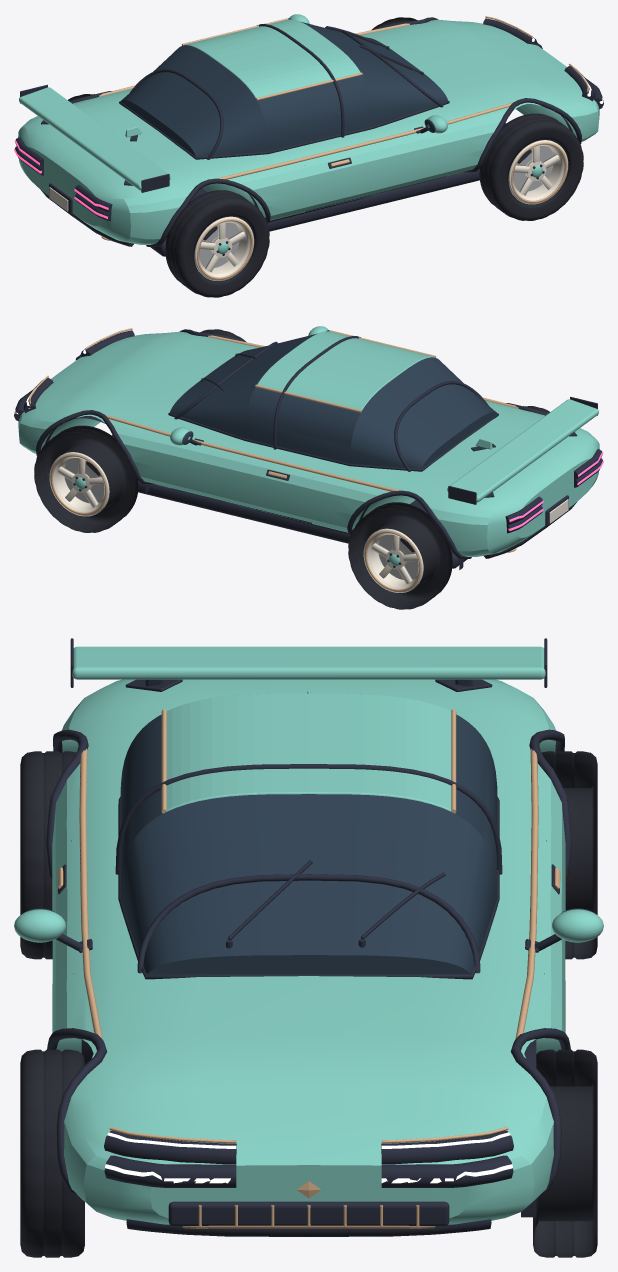
The model's file is coupe.glb.
3 views of the same model, one above another, from view 1: azimuth 30°, elevation 25°; view 2: azimuth 150°, elevation 25°; view 3: azimuth 270°, elevation 25° (orthographic). The views are drawn at different scales.
Visible parts, largest first — view 1: PT_coupe_body, PT_coupe_wraparound_glass, PT_coupe_tyre_FL, PT_coupe_antenna_base, PT_coupe_antenna_fin, PT_coupe_exhaust_tip, PT_coupe_licence_plate, PT_coupe_tail_light; view 2: PT_coupe_body, PT_coupe_wraparound_glass, PT_coupe_tyre_FL, PT_coupe_antenna_base, PT_coupe_antenna_fin, PT_coupe_exhaust_tip, PT_coupe_licence_plate, PT_coupe_tail_light; view 3: PT_coupe_body, PT_coupe_wraparound_glass, PT_coupe_antenna_base, PT_coupe_tyre_FL, PT_coupe_antenna_fin, PT_coupe_exhaust_tip, PT_coupe_light_signature.
Boxes of the visible parts, x1=… form: PT_coupe_body: x1=18, y1=14, x2=599, y2=253; PT_coupe_wraparound_glass: x1=120, y1=22, x2=447, y2=159; PT_coupe_tyre_FL: x1=68, y1=17, x2=583, y2=297; PT_coupe_antenna_base: x1=15, y1=17, x2=603, y2=256; PT_coupe_antenna_fin: x1=125, y1=19, x2=360, y2=137; PT_coupe_exhaust_tip: x1=99, y1=16, x2=588, y2=279; PT_coupe_licence_plate: x1=49, y1=140, x2=568, y2=280; PT_coupe_tail_light: x1=14, y1=140, x2=108, y2=218; PT_coupe_body: x1=18, y1=326, x2=599, y2=565; PT_coupe_wraparound_glass: x1=170, y1=333, x2=497, y2=471; PT_coupe_tyre_FL: x1=34, y1=329, x2=549, y2=609; PT_coupe_antenna_base: x1=14, y1=329, x2=602, y2=568; PT_coupe_antenna_fin: x1=257, y1=331, x2=492, y2=449; PT_coupe_exhaust_tip: x1=29, y1=328, x2=518, y2=591; PT_coupe_licence_plate: x1=49, y1=452, x2=568, y2=592; PT_coupe_tail_light: x1=508, y1=452, x2=603, y2=531; PT_coupe_body: x1=14, y1=646, x2=603, y2=1224; PT_coupe_wraparound_glass: x1=120, y1=714, x2=497, y2=974; PT_coupe_antenna_base: x1=46, y1=638, x2=571, y2=1236; PT_coupe_tyre_FL: x1=20, y1=751, x2=597, y2=1257; PT_coupe_antenna_fin: x1=166, y1=691, x2=451, y2=811; PT_coupe_exhaust_tip: x1=57, y1=709, x2=560, y2=1228; PT_coupe_light_signature: x1=105, y1=1132, x2=512, y2=1183.
Bounding box in the file's own units: 4.7 × 1.48 × 2.44.
13 materials, 13 textured.
